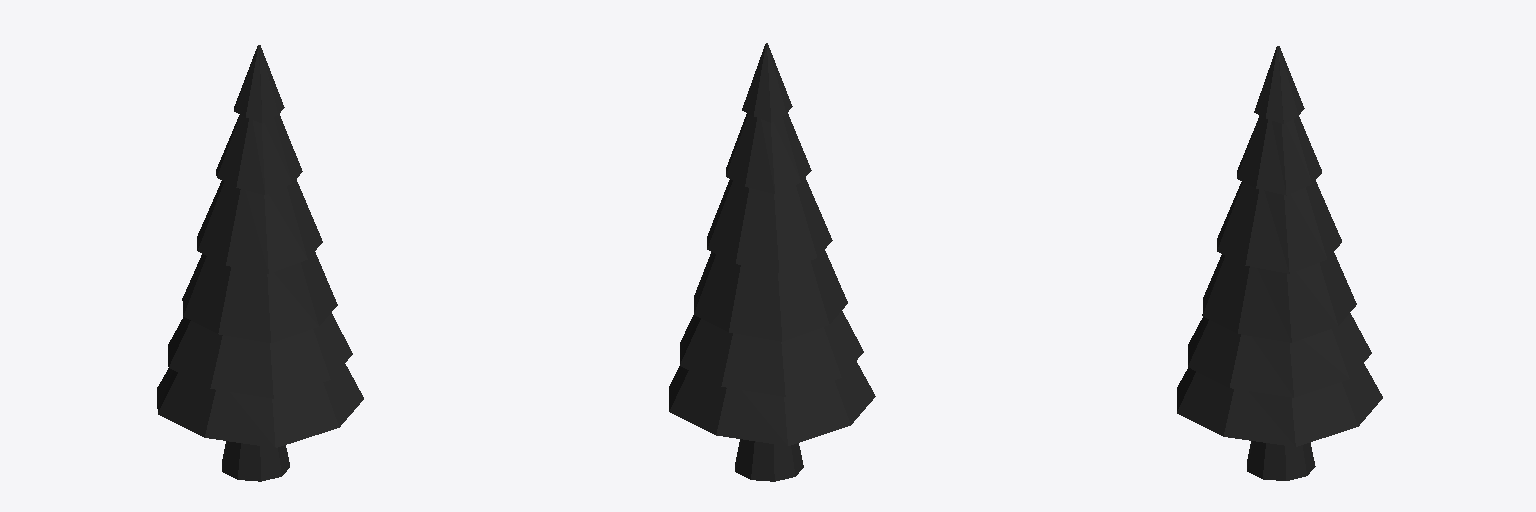
Rendered from tree1.obj.
3 renders of one model, left to right at view 1: azimuth 30°, elevation 25°; view 2: azimuth 150°, elevation 25°; view 3: azimuth 270°, elevation 25°, orthographic.
Parts seen in each view (by area): view 1: Cylinder; view 2: Cylinder; view 3: Cylinder.
Part boxes in pixels (bbox=[...]): Cylinder: bbox=[157, 45, 363, 481]; Cylinder: bbox=[669, 43, 875, 481]; Cylinder: bbox=[1177, 46, 1382, 480].
Bounding box in the file's own units: 2.31 × 5.12 × 2.28.